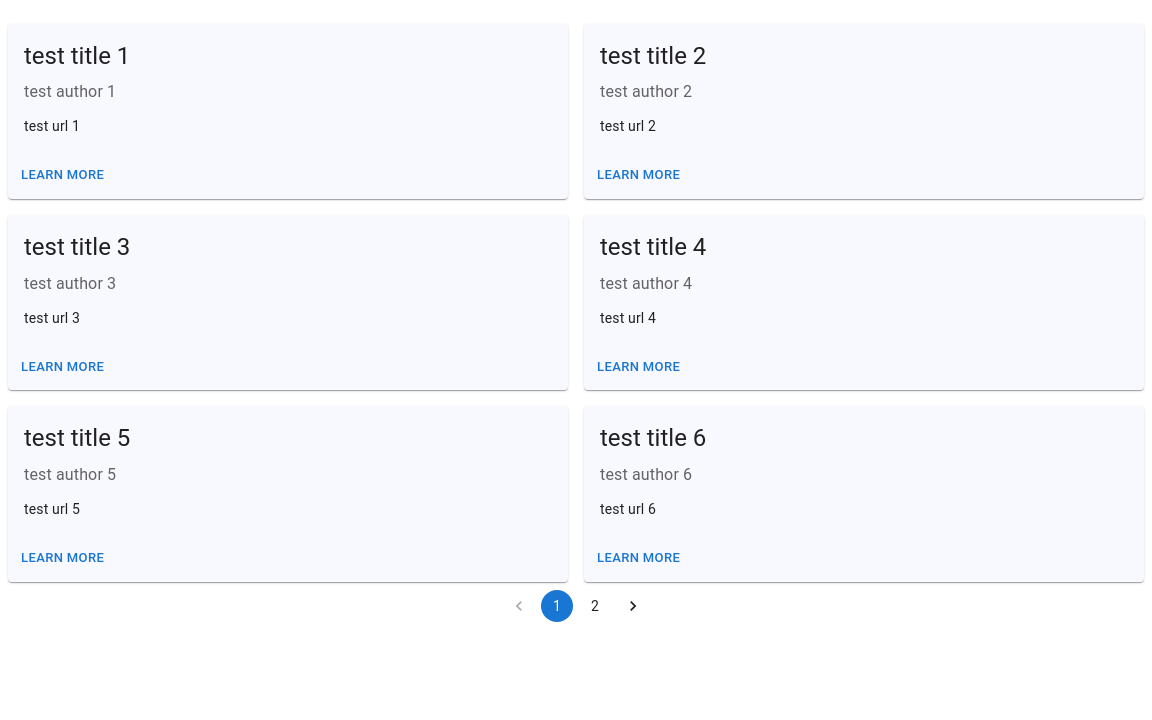
Test: <BlogPagination> › show the next 6 blogs when switching from page 1 to page 2
Click the button named "Go to next page" at (633, 606), box [617,590,649,622]
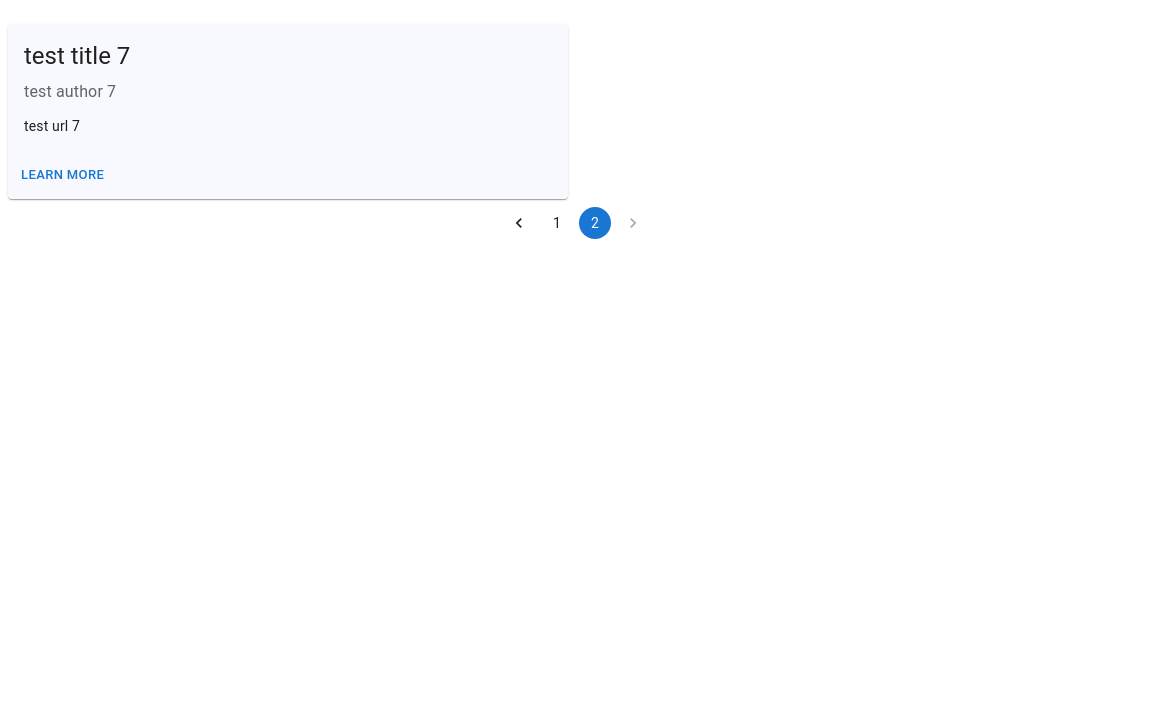
Expected: the heading "test title 7" is shown, [24,42,130,70]
